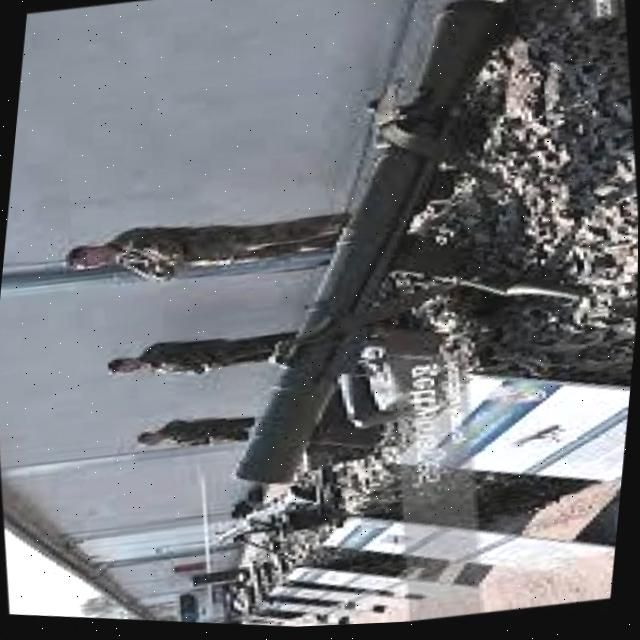rocket: (162, 0, 583, 520)
